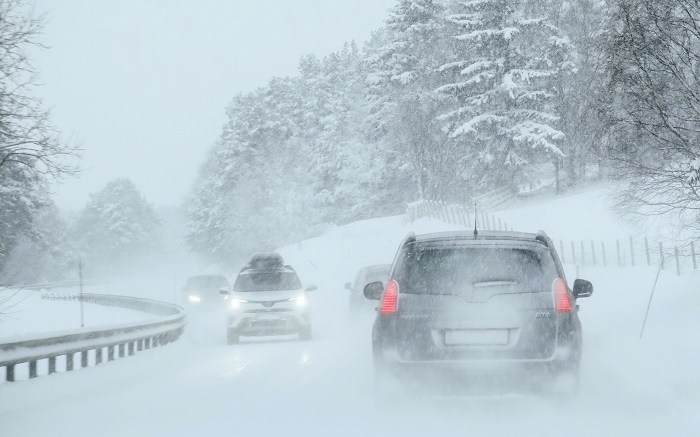car: (365, 227, 595, 411), (222, 260, 321, 344), (179, 274, 234, 315)
